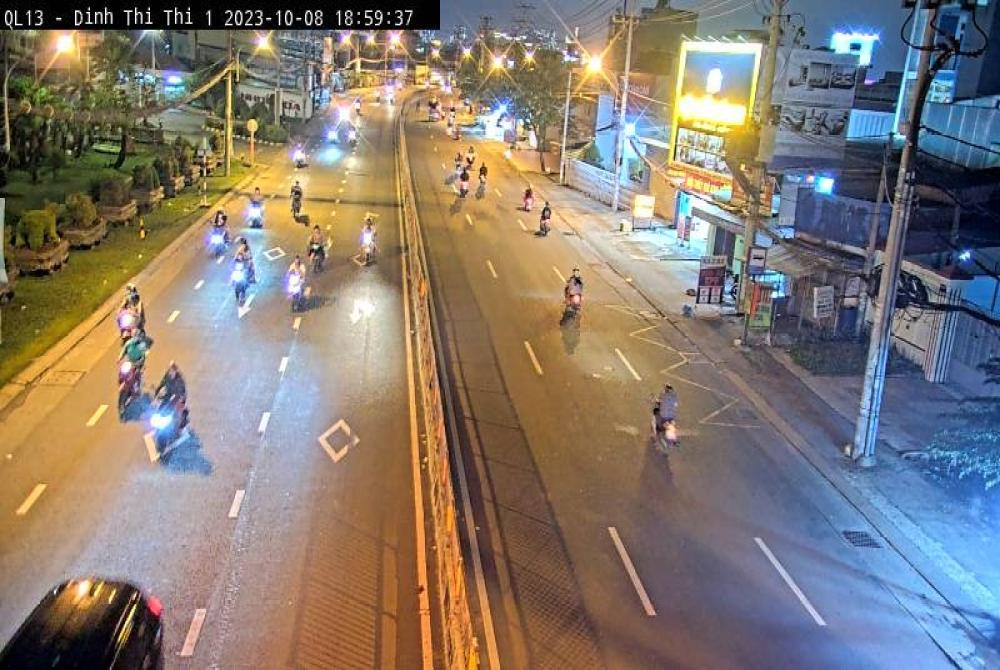car: (0, 575, 168, 670)
